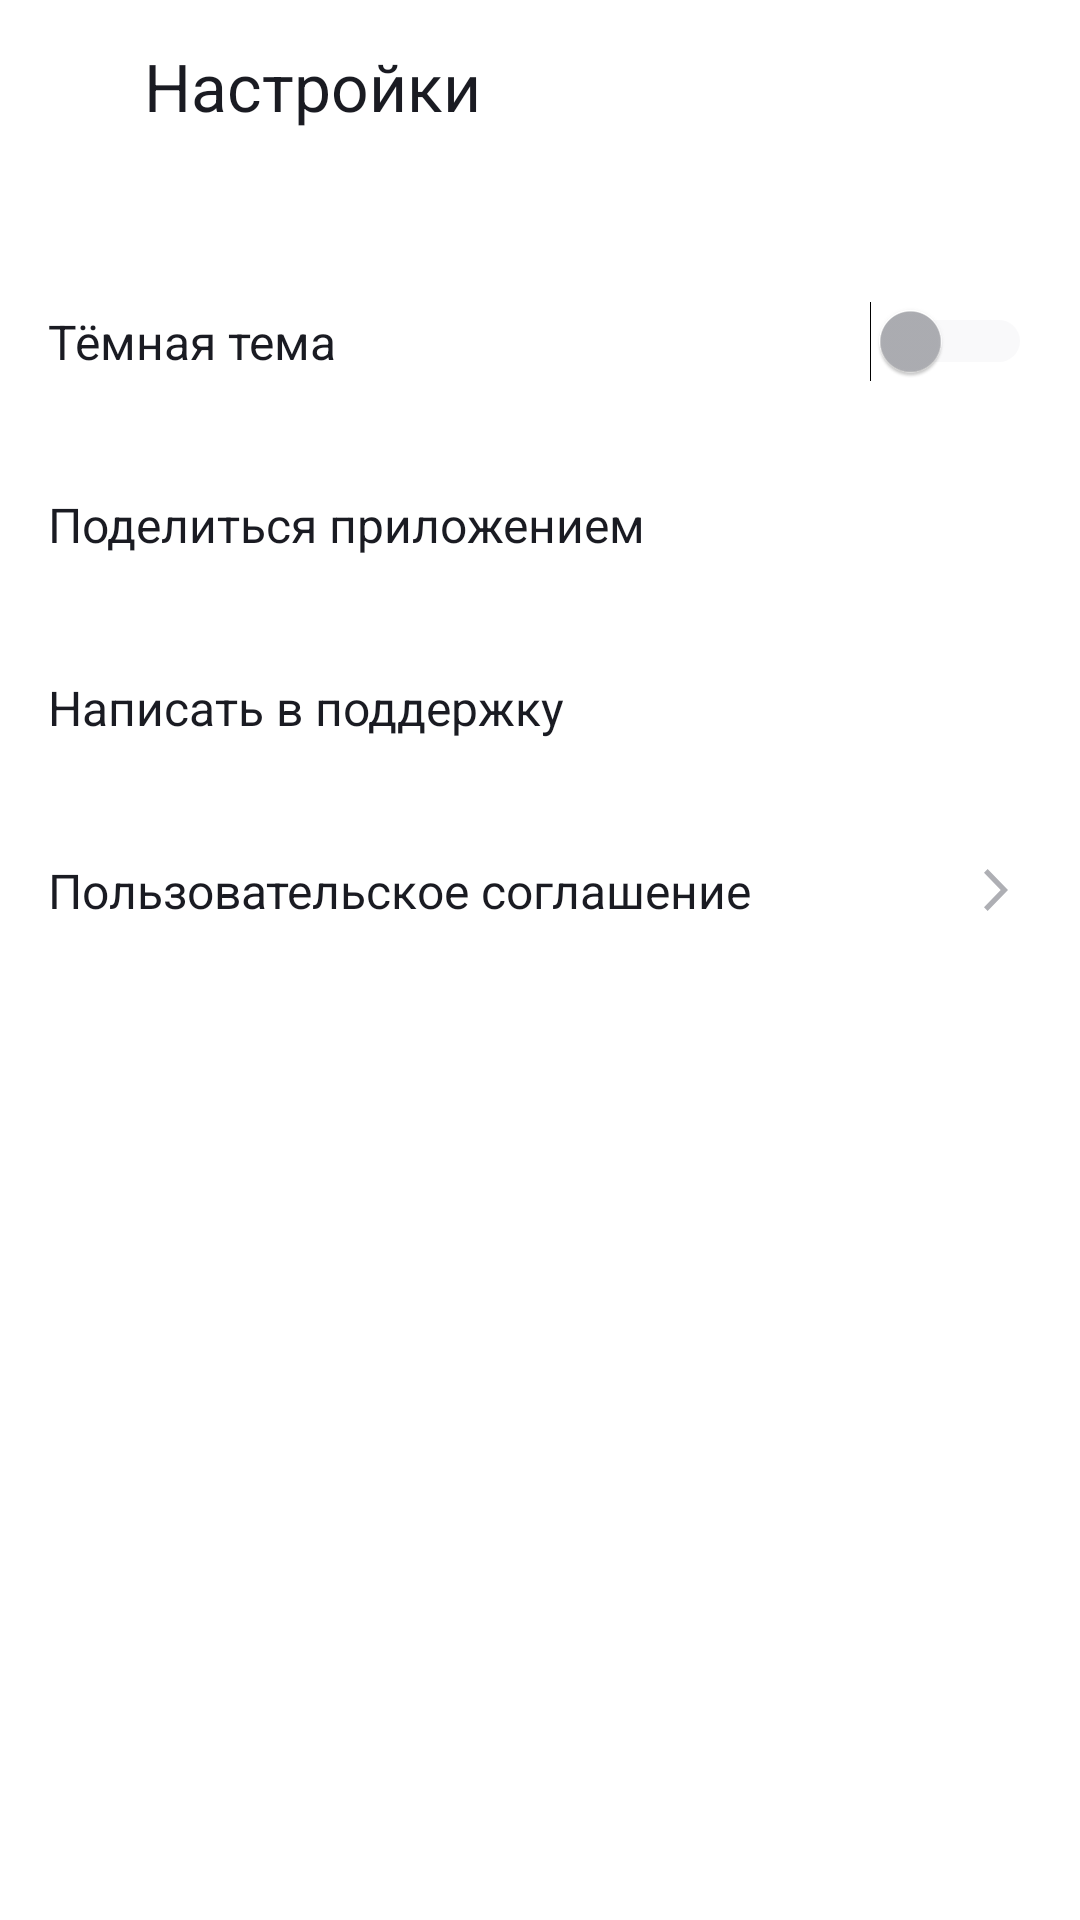

Icon bounding boxes for this 1080 x 1920 phone screenshot, format (x1, y1, x2, y2):
arrow: (984, 869, 1008, 911)
